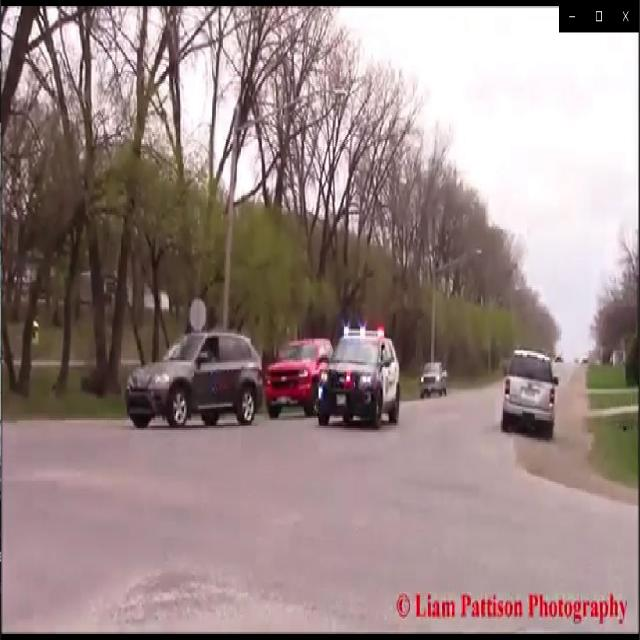emergency: (317, 318, 402, 431)
